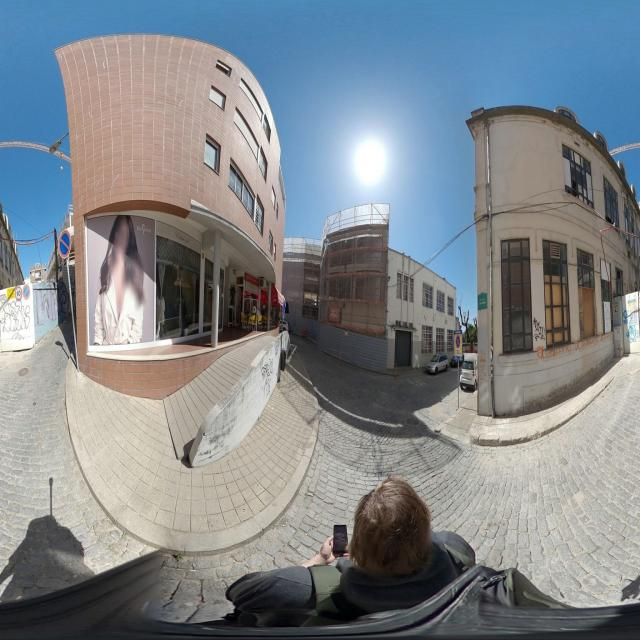car: (459, 357, 479, 391), (426, 353, 450, 374)
